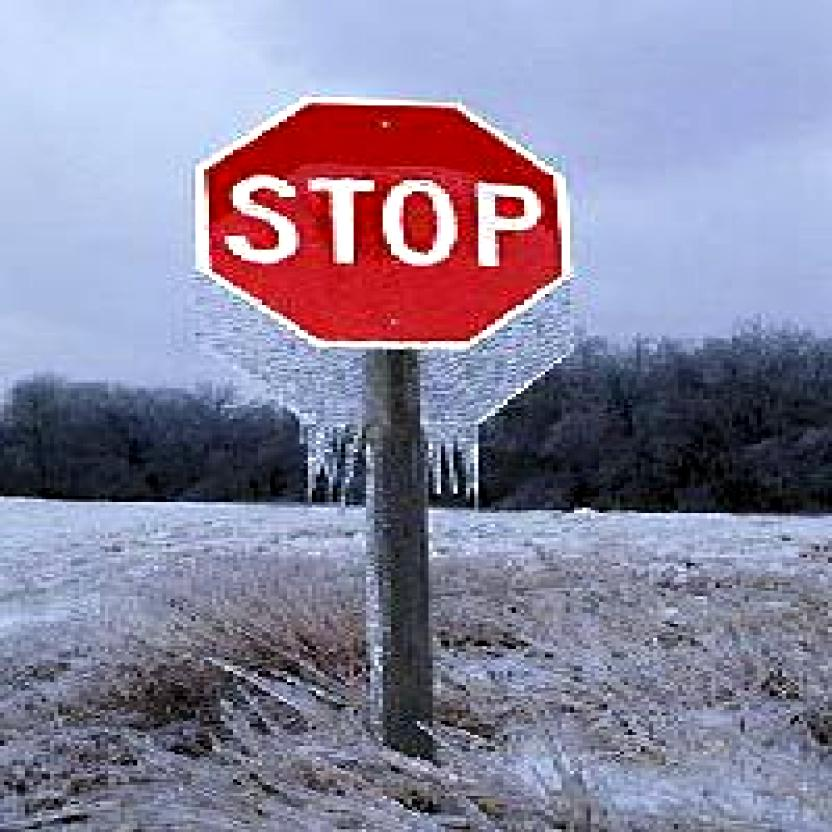Pole: (354, 350, 424, 746)
Sign: (194, 96, 571, 348)
